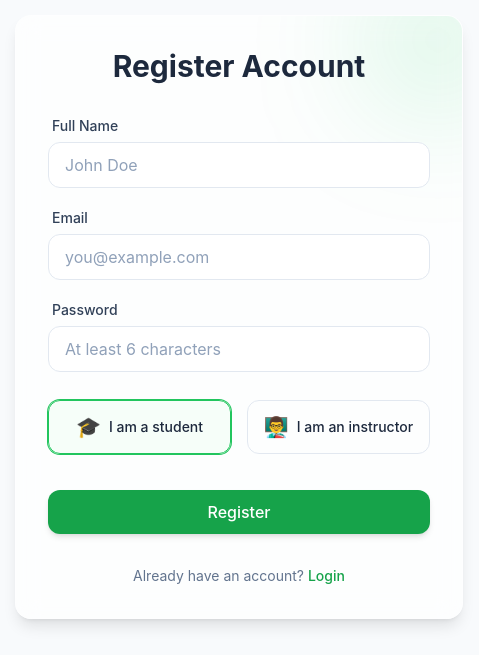
Scenario: Register page › server error handling › falls back to a generic message when the error body has no detail
The width and height of the screenshot is (479, 655).
Type "Ada Lovelace" into the field with placeholder "John Doe" at (239, 165), box [48, 142, 430, 188]
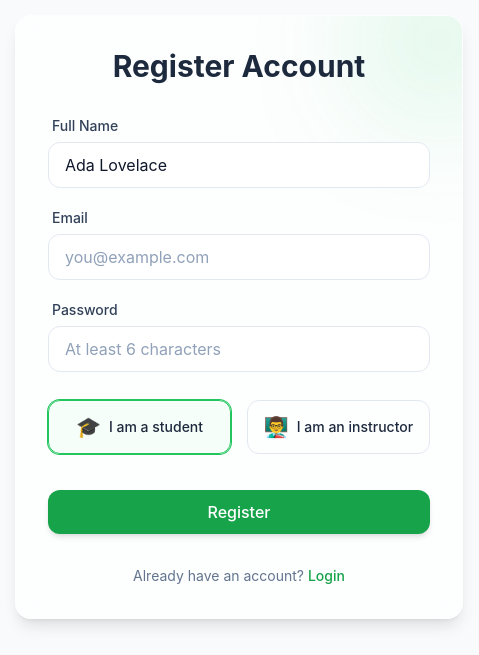
Type "ada@example.com" into the field with placeholder "you@example.com" at (239, 257), box [48, 234, 430, 280]
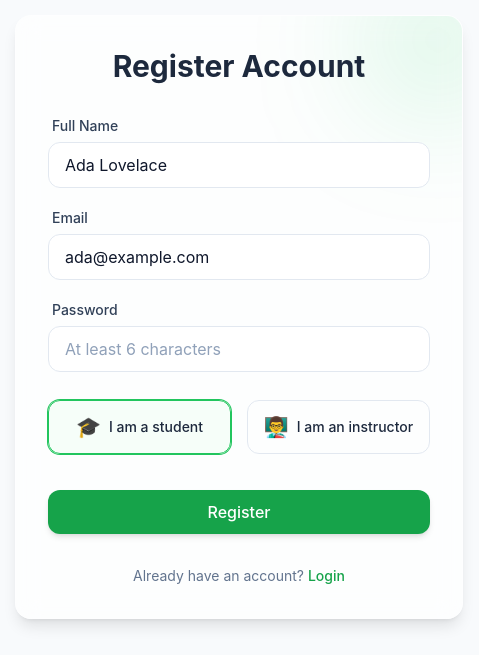
Type "secret123" into the password field with placeholder "At least 6 characters" at (239, 349), box [48, 326, 430, 372]
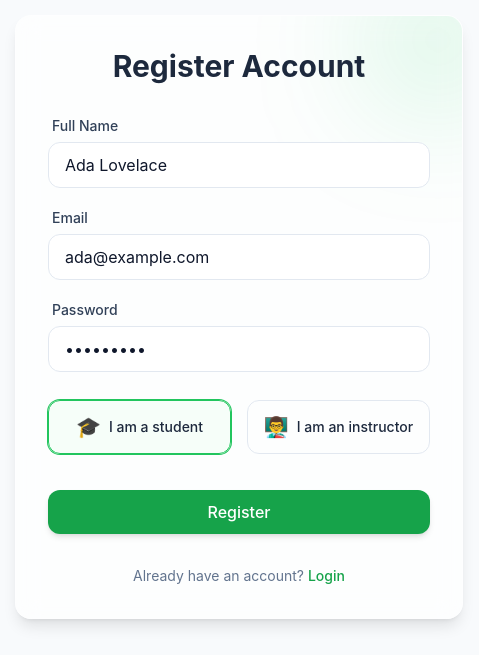
Click the button "Register" at (239, 512), box [48, 490, 430, 534]
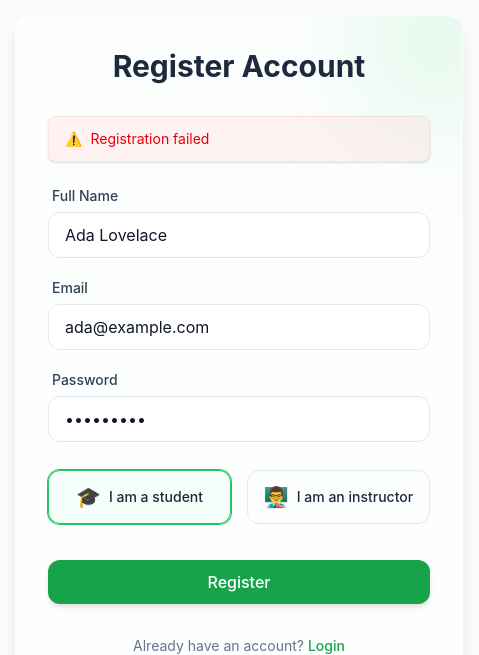
Expected: the text "⚠️ Registration failed" is shown, [48, 116, 430, 162]
